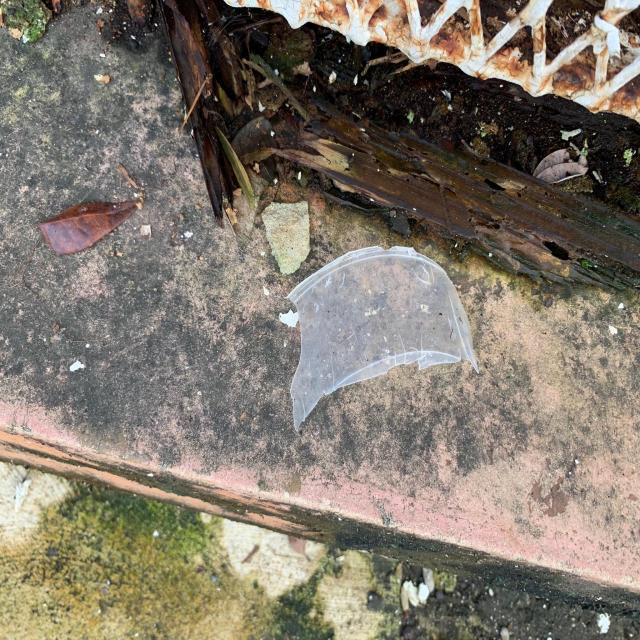litter: (282, 234, 507, 444)
